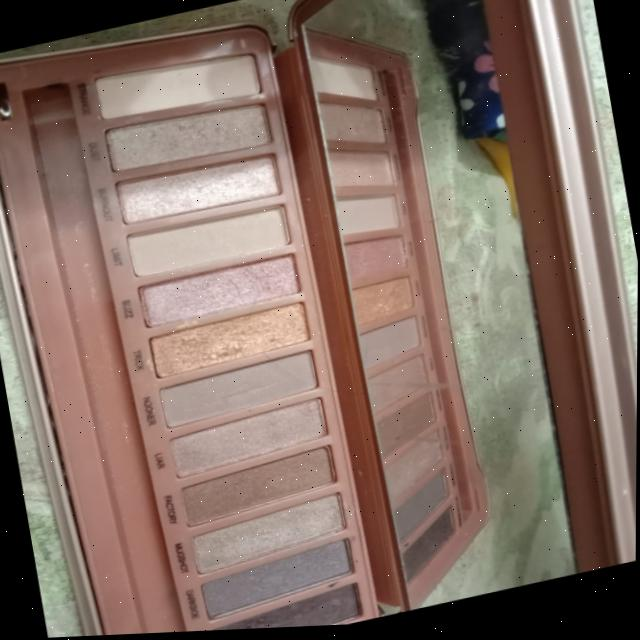eye shade: (78, 16, 387, 637)
